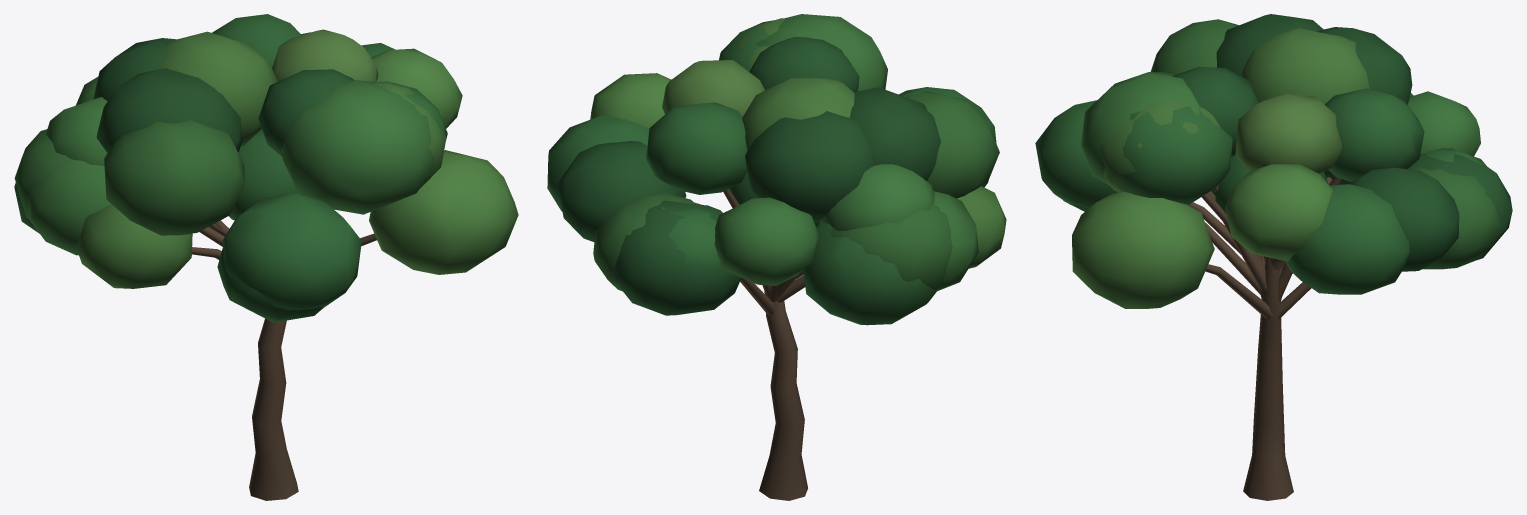
File: tree_clump_wide.glb
3 views of the same model, side by side, from view 1: azimuth 30°, elevation 25°; view 2: azimuth 150°, elevation 25°; view 3: azimuth 270°, elevation 25° (orthographic). The views are drawn at different scales.
Visible parts, largest first — view 1: crown, trunk; view 2: crown, trunk; view 3: crown, trunk.
Part boxes in pixels (<box>): crown: <box>14,14,518,322</box>; trunk: <box>192,206,376,500</box>; crown: <box>547,14,1006,325</box>; trunk: <box>695,189,807,500</box>; crown: <box>1035,14,1512,308</box>; trunk: <box>1187,177,1342,500</box>.
Bounding box in the file's own units: 5.14 × 5.28 × 5.25.
